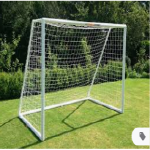goals: (16, 16, 127, 144)
